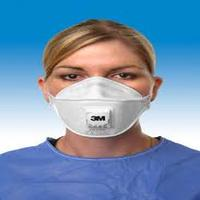flu mask: (47, 76, 151, 139)
